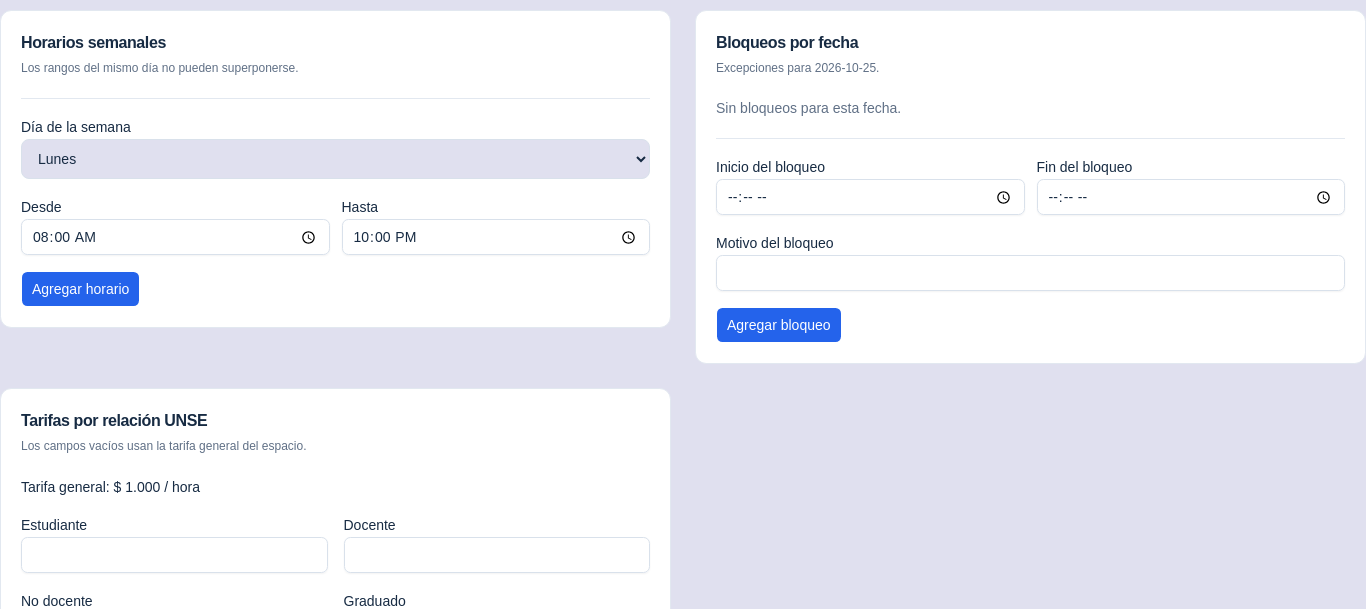
Test: Incrementos 2 y 3 › agrega y edita horarios por API con confirmación visible
The image size is (1366, 609).
(page scrolled)
Click the button "Agregar horario".
click(81, 289)  # box [21,271,140,307]
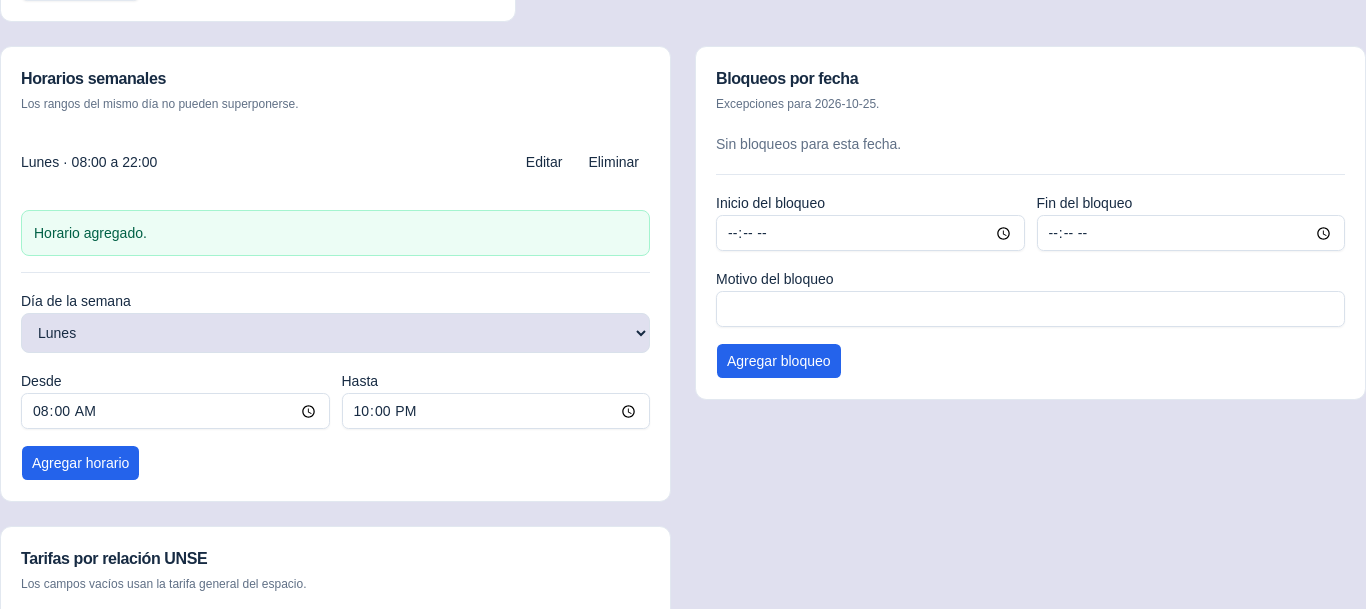
Check: the text "Horario agregado." is shown, box [21,210,650,256]
Click the button "Editar".
click(544, 162)  # box [515,146,573,178]
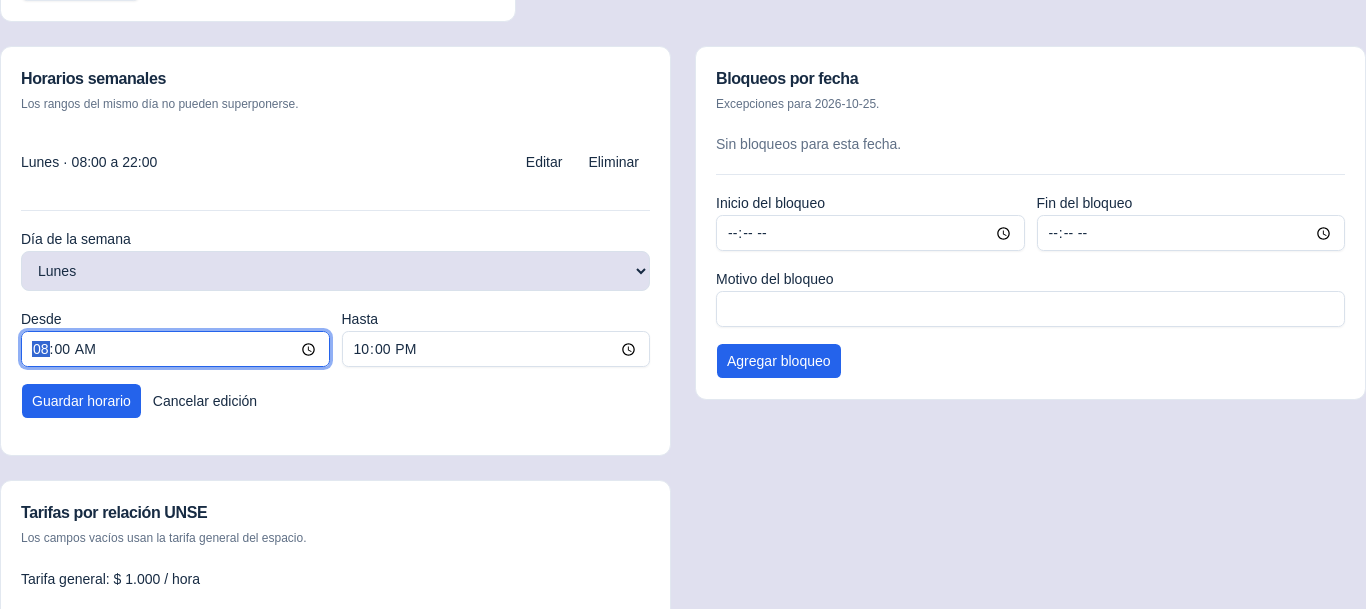
Replace the text in the time field labelled "Desde" with "09:00" at (175, 349), box [21,331,330,367]
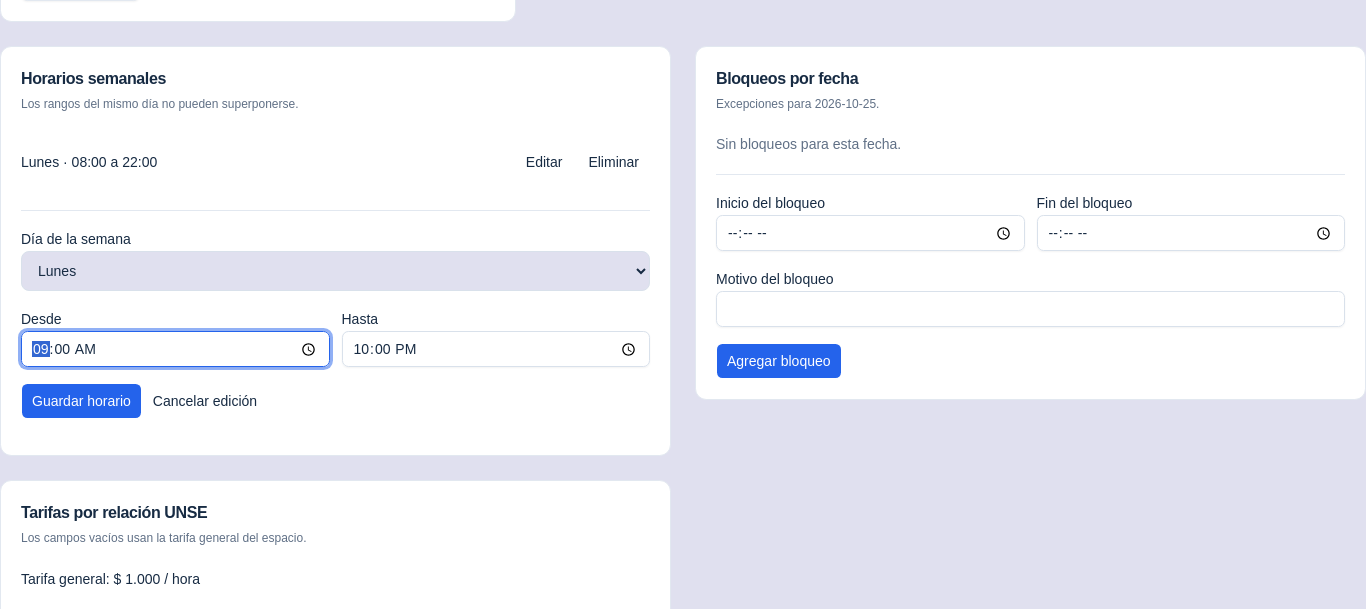
Replace the text in the time field labelled "Hasta" with "21:00" at (496, 349), box [342,331,650,367]
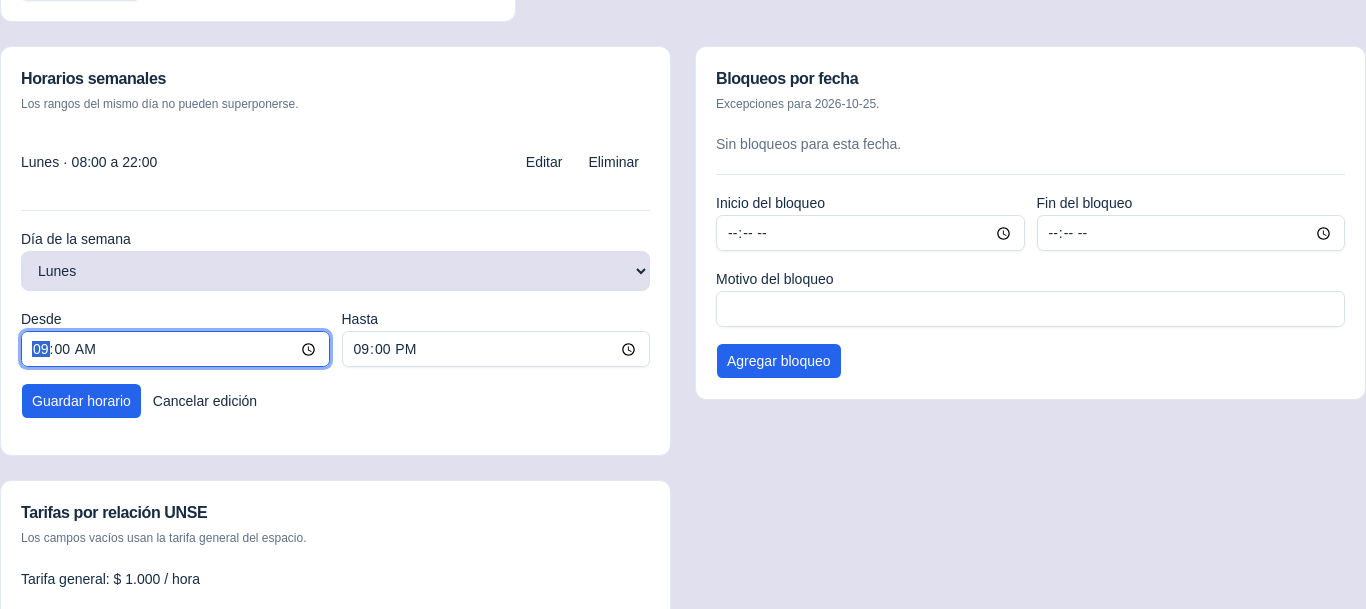
Click the button "Guardar horario".
click(81, 401)  # box [21,383,142,419]
(page scrolled)
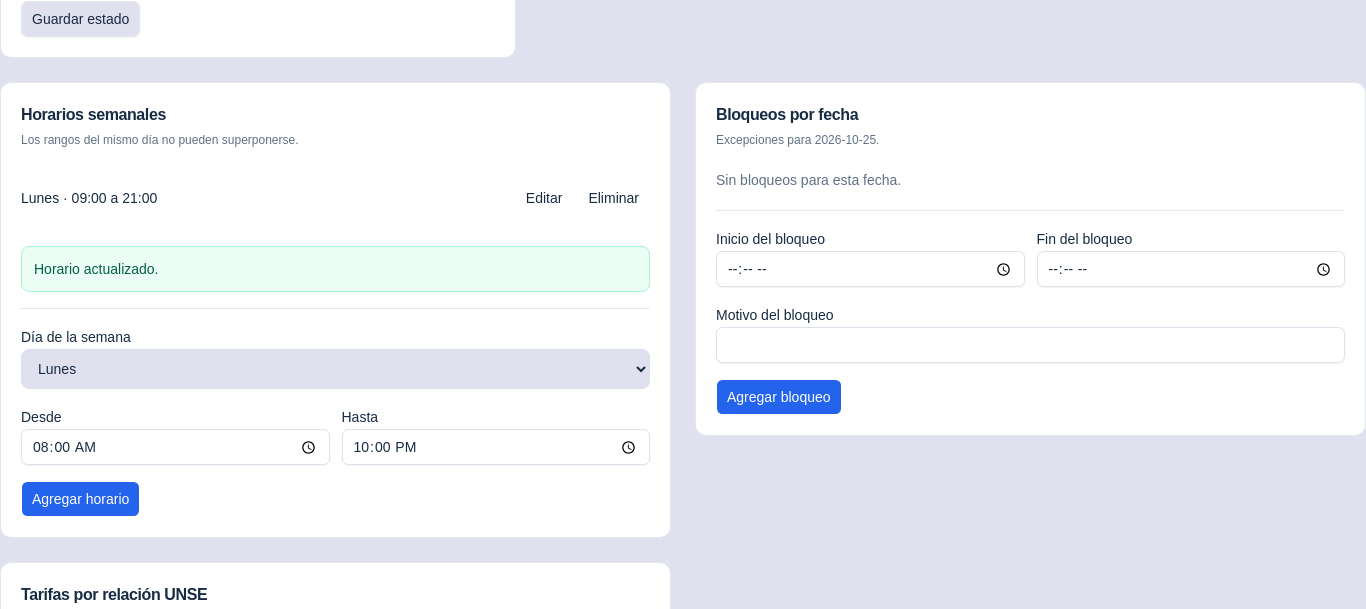
Check: the text "Horario actualizado." is shown, box [21,246,650,292]
Check: the text "Lunes · 09:00 a 21:00" is shown, box [21,188,157,208]
